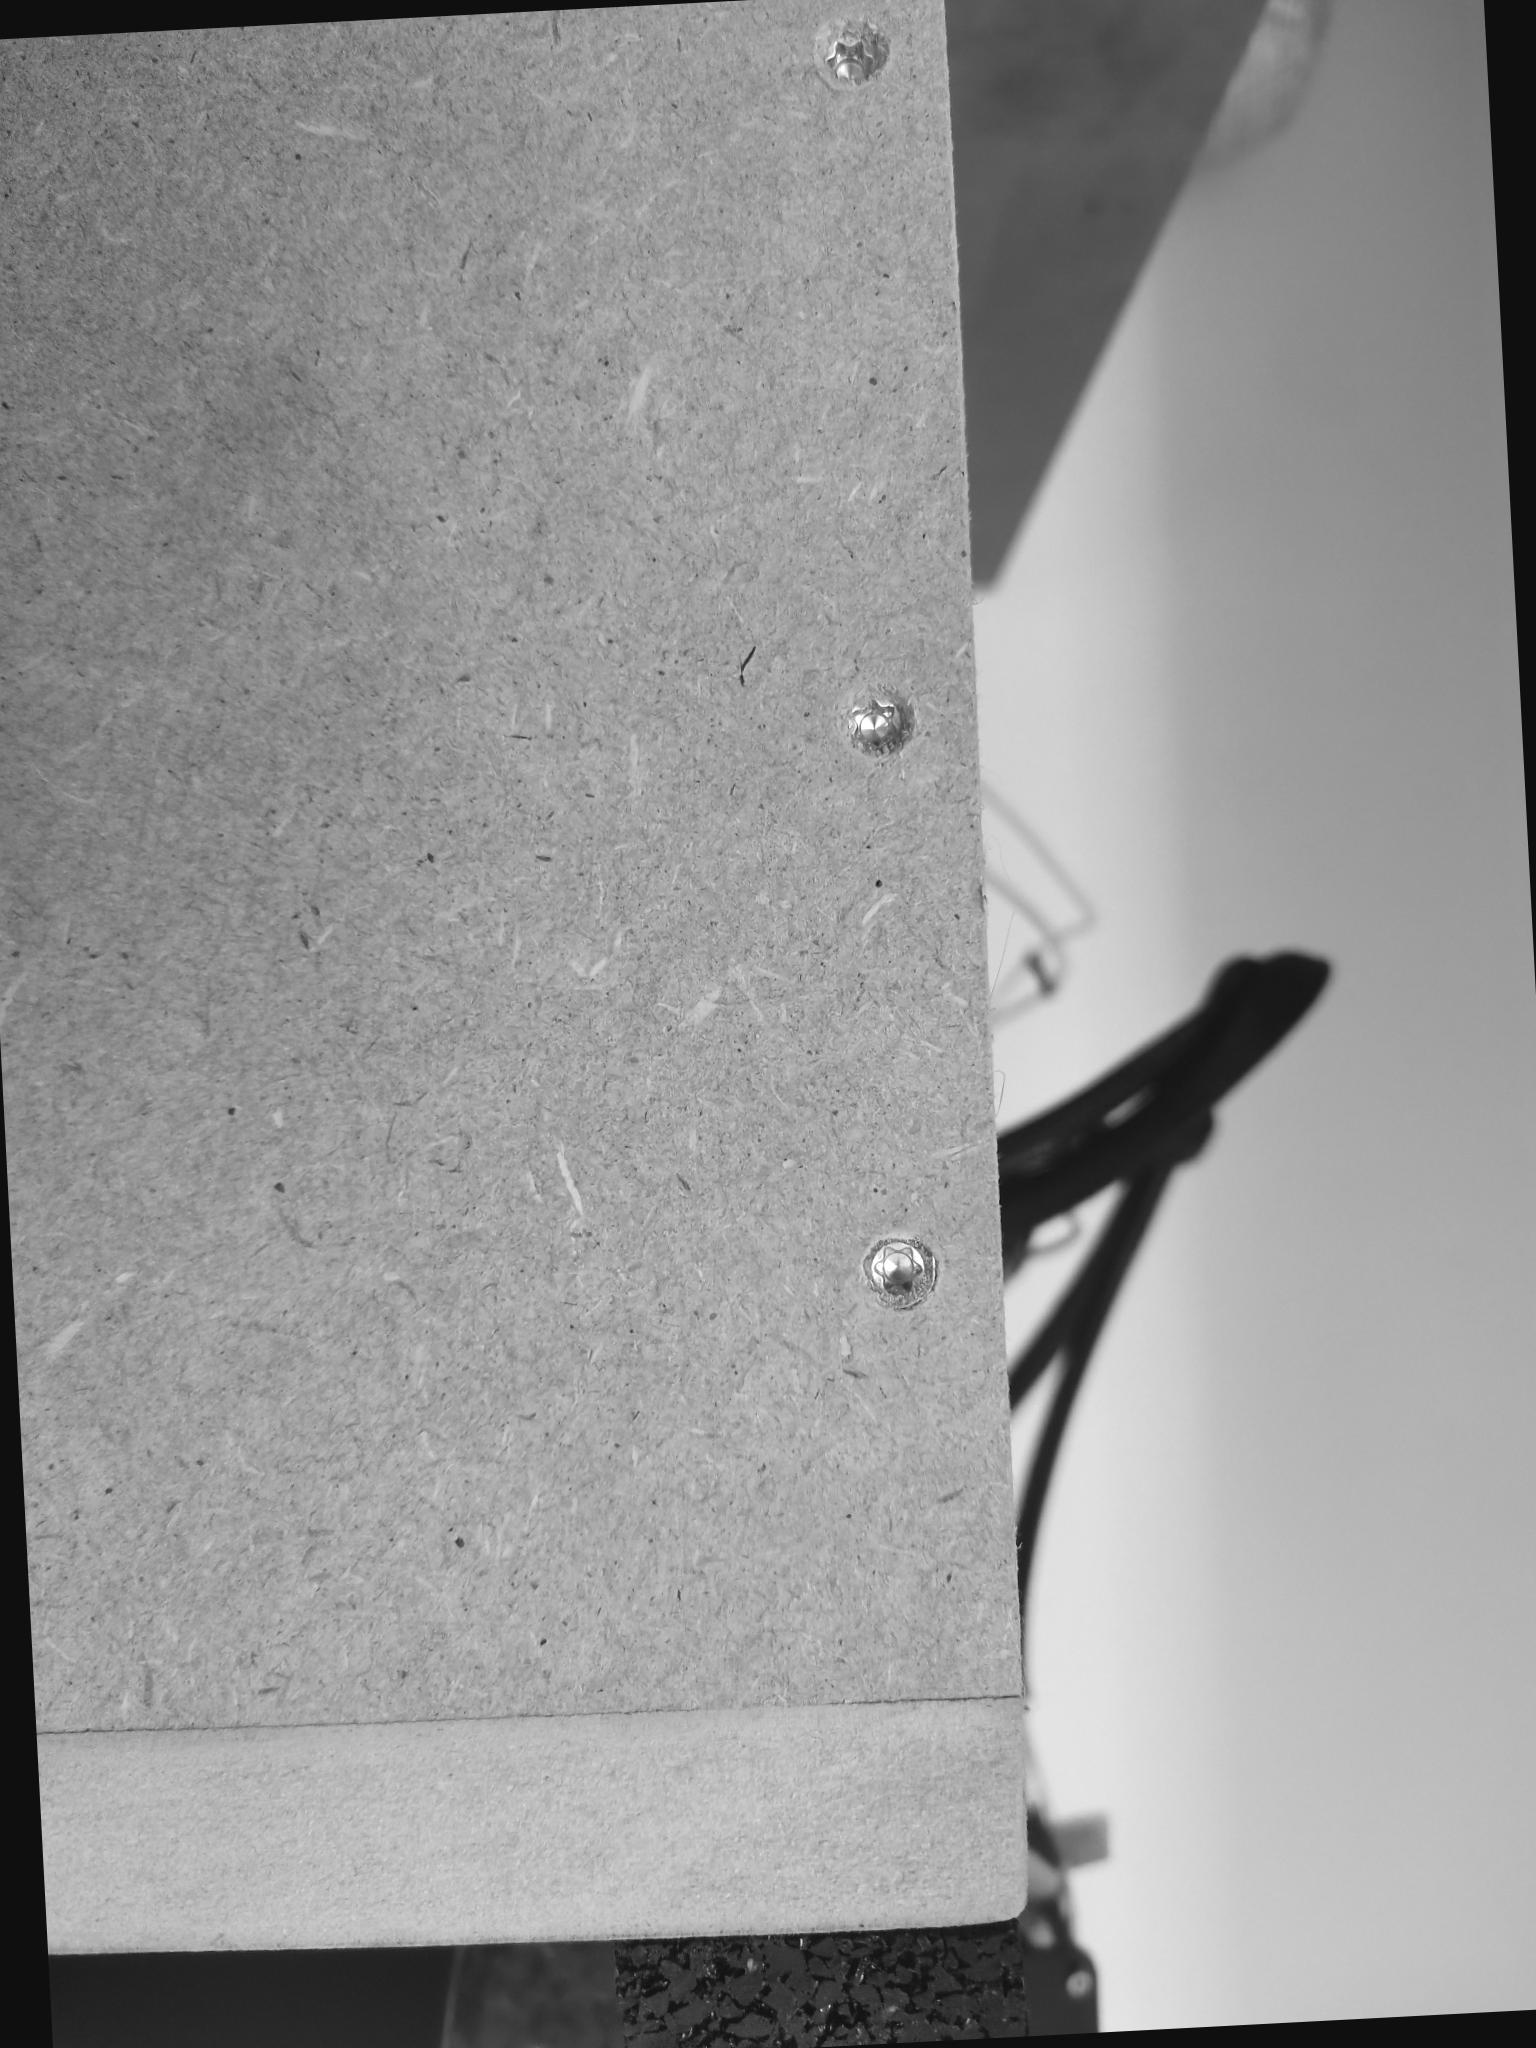screw: (854, 1222, 947, 1311)
